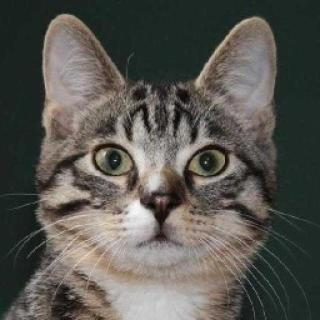cat: (26, 16, 288, 288)
nose: (137, 177, 185, 220)
